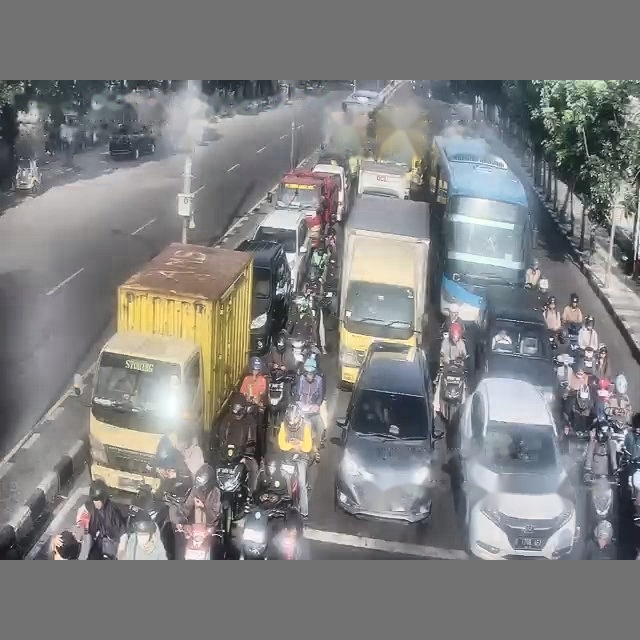Bis: (427, 136, 535, 321)
Mobil: (460, 378, 577, 559), (335, 342, 444, 522), (476, 303, 559, 407), (236, 240, 291, 355), (458, 377, 557, 438), (254, 210, 310, 291), (312, 163, 349, 221), (109, 124, 155, 158)
Motor: (216, 445, 251, 547), (584, 474, 617, 530), (440, 360, 465, 422), (268, 369, 293, 428)
Truk: (89, 243, 252, 492), (338, 195, 430, 387), (358, 160, 410, 198)
